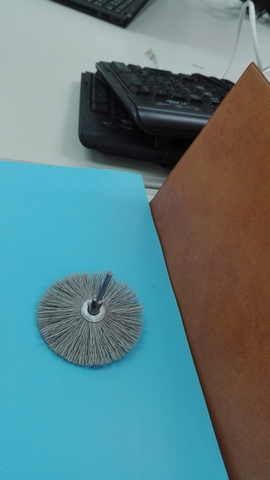TOOL: (27, 230, 150, 396), (18, 280, 174, 377), (30, 263, 156, 372)
